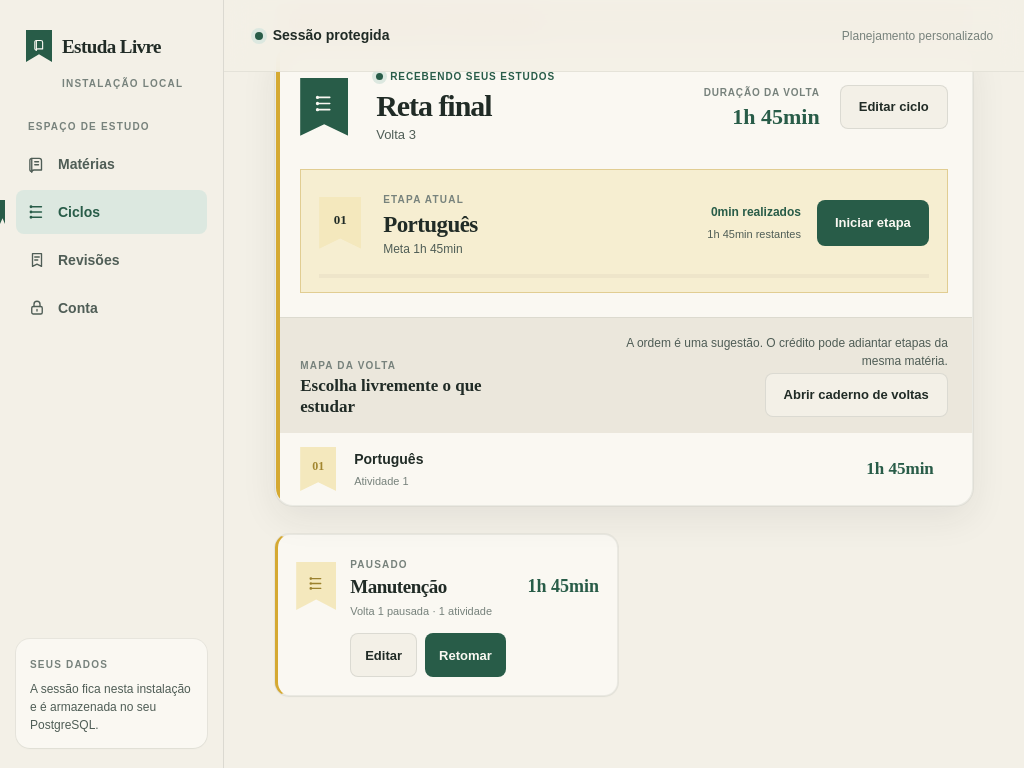
Test: authentication journey › asks how to switch cycles and pauses the current run when chosen
(page scrolled)
Step 1. Click the button with aria-label "Retomar Manutenção" → point(465, 655), box [425,633,506,677]
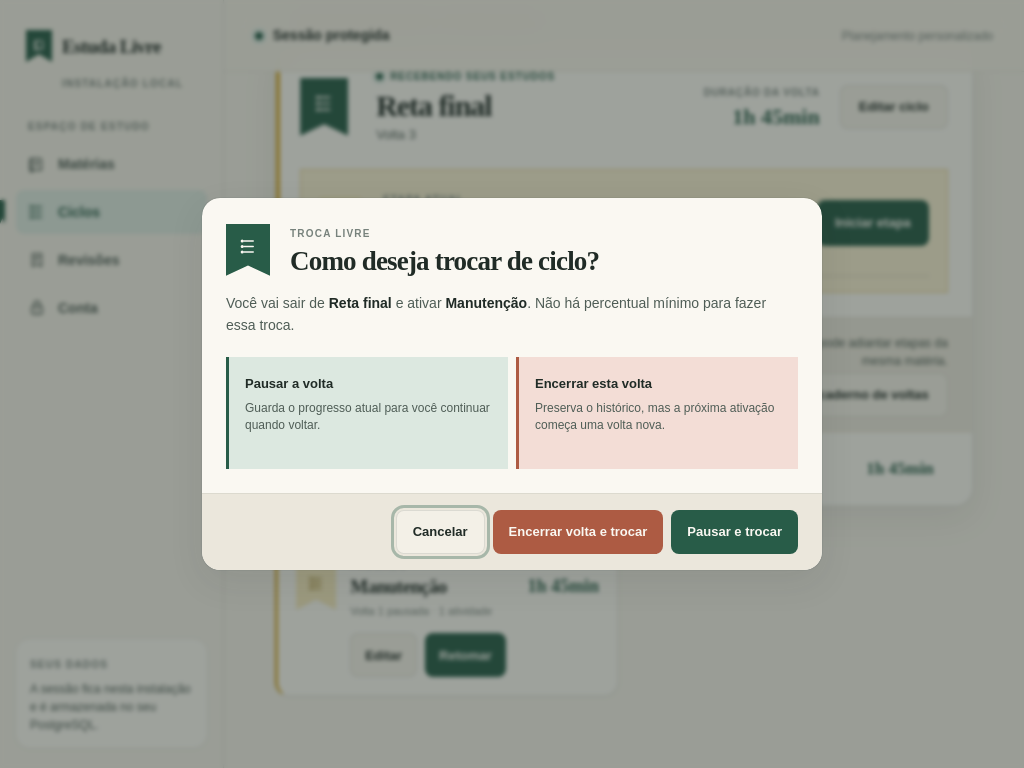
Now the text "Reta final" is shown, box [329,295,392,311]
Now the button "Encerrar volta e trocar" is shown, box [493,510,663,554]
Step 2. Click the button "Pausar e trocar" → point(735, 532), box [671,510,798,554]
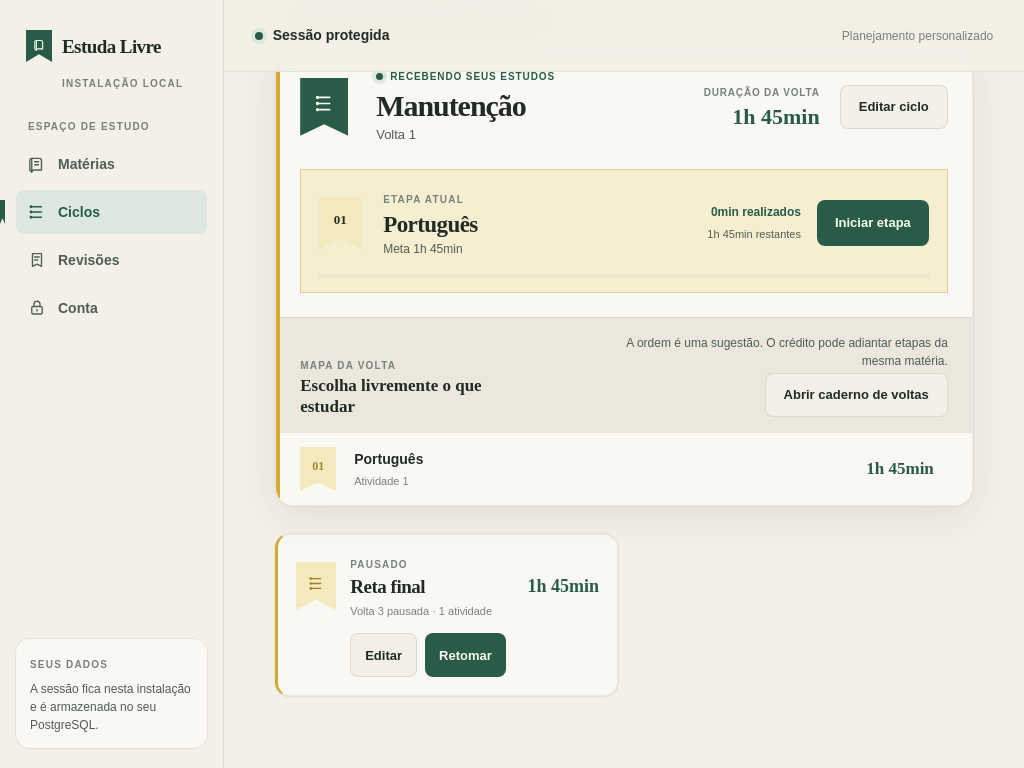
Now the heading "Manutenção" is shown, box [376,89,526,122]
Now the dialog is gone
